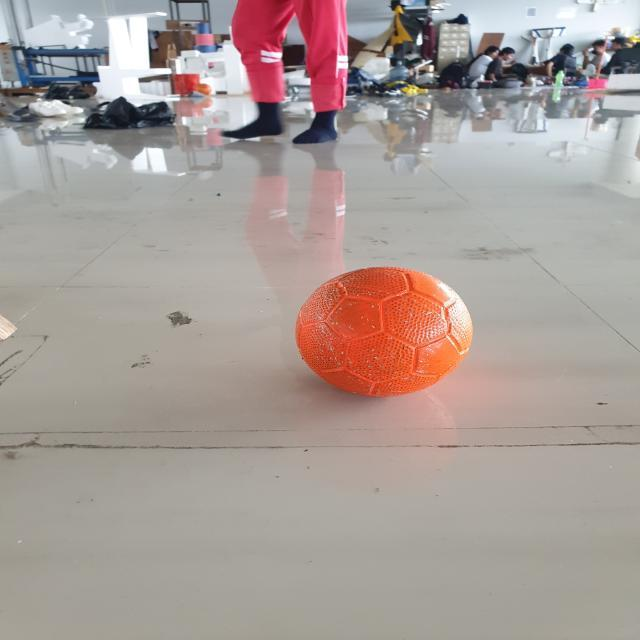bola: (286, 260, 478, 402)
